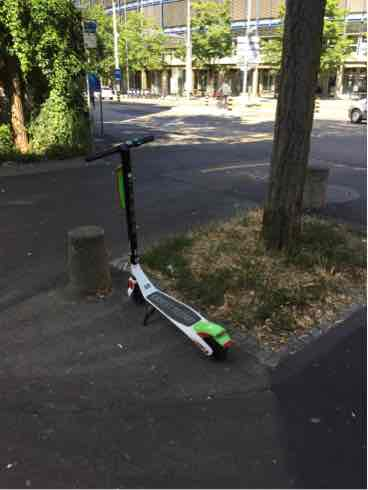scooter: (77, 124, 237, 368)
